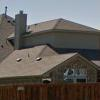Chimney: (12, 10, 33, 53)
